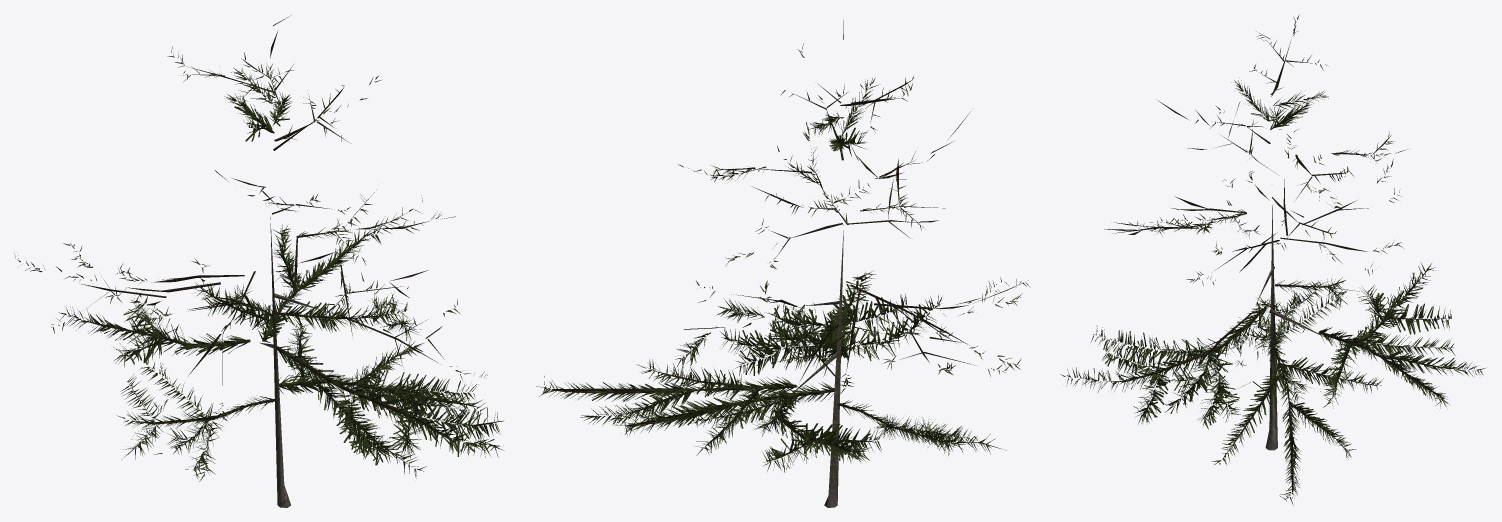
The model's file is fir_sapling_c.glb.
3 renders of one model, left to right at view 1: azimuth 30°, elevation 25°; view 2: azimuth 150°, elevation 25°; view 3: azimuth 270°, elevation 25°, orthographic. The views are drawn at different scales.
Visible parts, largest first — view 1: fir_sapling_c__lodS; view 2: fir_sapling_c__lodS; view 3: fir_sapling_c__lodS.
Part boxes in pixels (x1=…): fir_sapling_c__lodS: x1=14, y1=15, x2=503, y2=507; fir_sapling_c__lodS: x1=536, y1=20, x2=1030, y2=507; fir_sapling_c__lodS: x1=1060, y1=15, x2=1485, y2=505.
Size of what is drawn, in the model's own units: 0.6044 by 0.6825 by 0.6332.
Materials: 2 (2 with a texture image).
